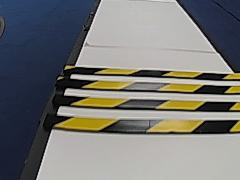bump: (46, 58, 234, 138)
